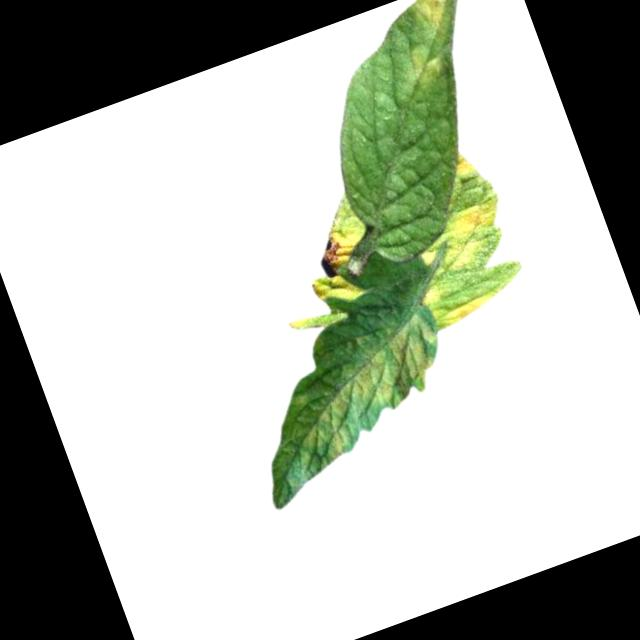Leaf_Mold: (264, 307, 467, 480), (407, 192, 515, 280), (296, 221, 380, 313), (435, 288, 502, 328), (401, 38, 448, 86), (406, 1, 453, 33), (447, 144, 478, 179)
